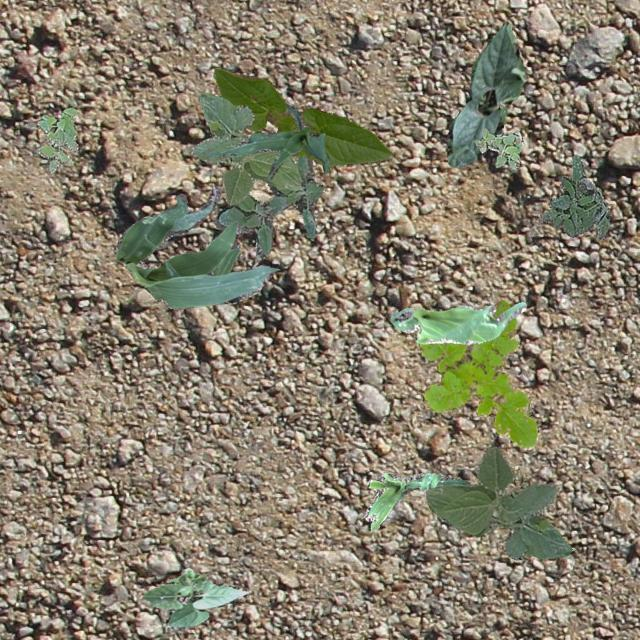crop: (112, 184, 278, 308), (213, 68, 390, 166), (426, 446, 572, 558), (190, 92, 300, 204), (446, 20, 524, 166), (194, 104, 328, 178), (142, 566, 248, 628), (364, 470, 469, 530), (390, 301, 526, 344)
weed: (418, 298, 538, 448), (214, 152, 322, 258), (540, 153, 610, 240), (36, 106, 78, 172), (474, 126, 522, 168)
